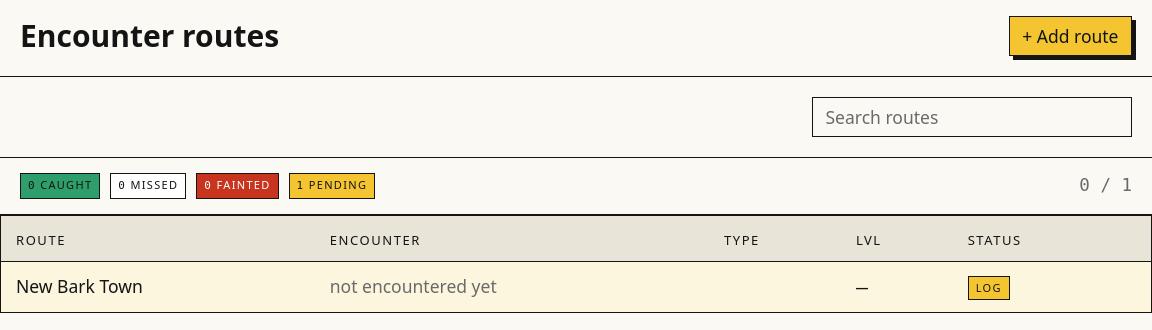
Scenario: RoutesScreen › shows a message instead of a blank table when a filter matches nothing
What coordinates should you click on to do the following:
click the button "0 caught"
I would click on:
 (60, 186)
Its box is x1=20 y1=173 x2=100 y2=198.
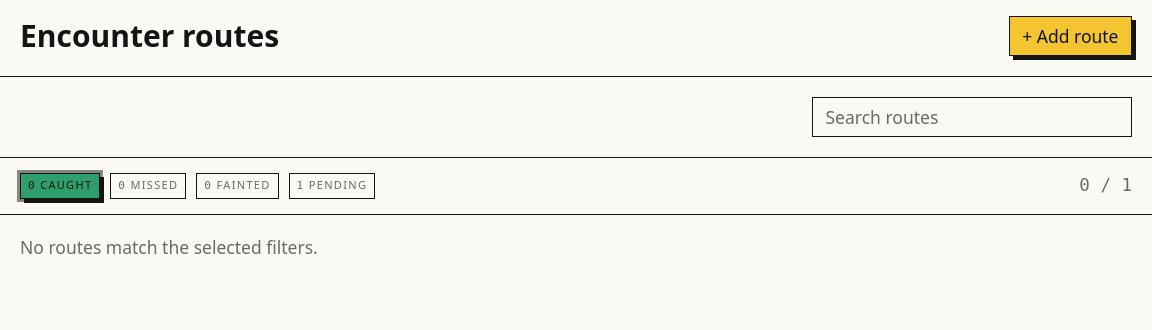
Expected: the text "No routes match the selected filters." is shown, x1=20 y1=234 x2=318 y2=258
